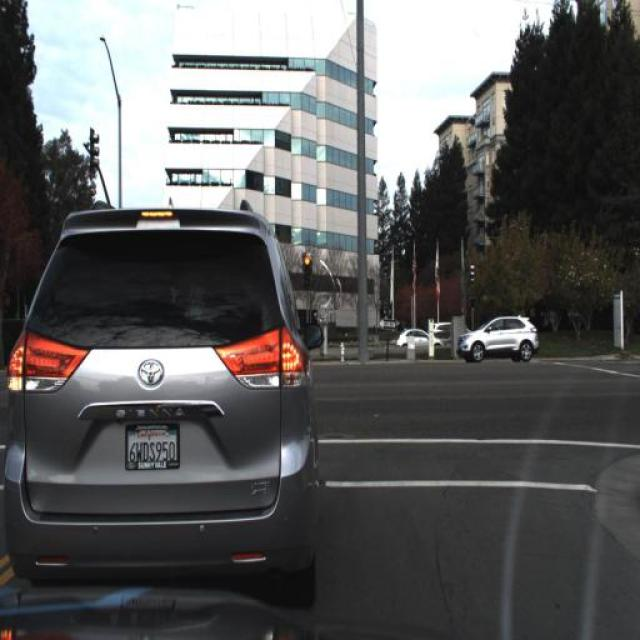car: (1, 193, 331, 608), (455, 306, 541, 372), (457, 308, 539, 364), (394, 327, 440, 353)
trafficLight-RedLeft: (300, 245, 314, 290), (303, 252, 313, 278)
